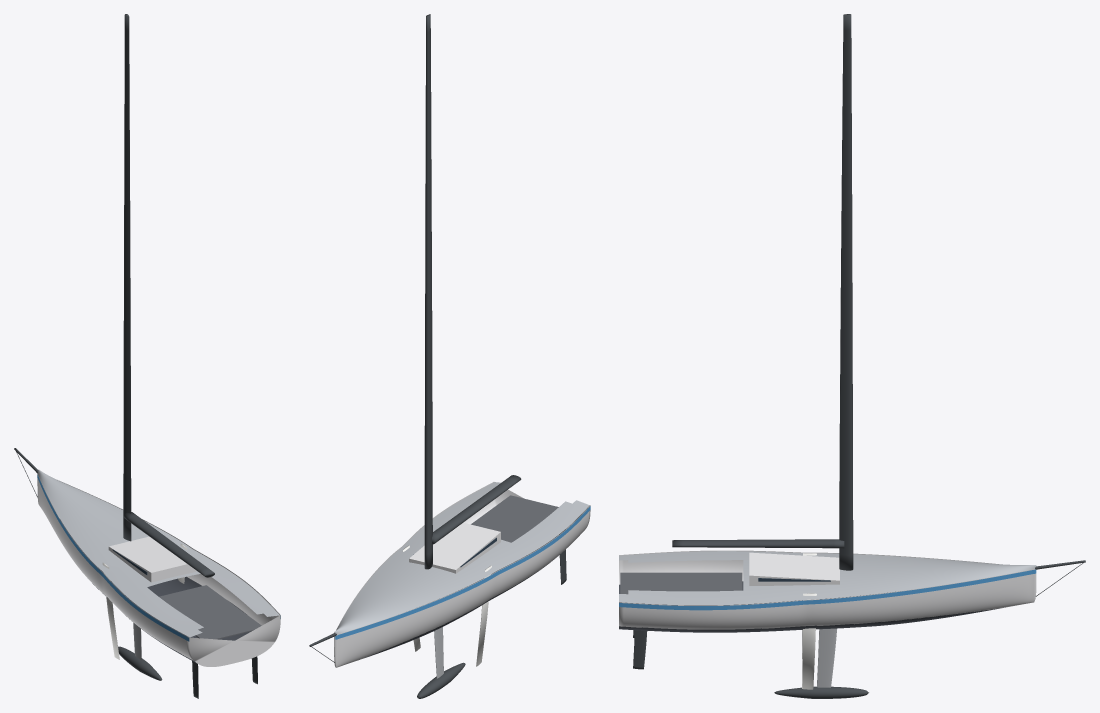
Rendered from imoca_derives.glb.
The picture shows the model from 3 angles, left to right: view 1: azimuth 30°, elevation 25°; view 2: azimuth 150°, elevation 25°; view 3: azimuth 270°, elevation 25°; orthographic projection. The views are drawn at different scales.
Visible parts, largest first — view 1: pont, coque, pivot_mat, cockpit, rouf, pivot_bome, fond, bande, pivot_quille_bulbe; view 2: pont, coque, pivot_mat, rouf, cockpit, bande, pivot_bome, pivot_quille_bulbe, fond; view 3: coque, pont, pivot_mat, rouf, cockpit, bande, fond, pivot_bome, pivot_quille, pivot_quille_bulbe, app_foil_tribord.
Part boxes in pixels (box(x1,y1,x2,y2)): pont: box(37, 469, 279, 637); coque: box(37, 474, 280, 666); pivot_mat: box(123, 14, 131, 541); cockpit: box(159, 585, 261, 639); rouf: box(108, 536, 195, 582); pivot_bome: box(123, 512, 214, 577); fond: box(59, 518, 250, 662); bande: box(37, 474, 280, 641); pivot_quille_bulbe: box(118, 646, 162, 680); pont: box(334, 482, 589, 634); coque: box(334, 482, 590, 667); pivot_mat: box(424, 14, 432, 569); rouf: box(409, 522, 500, 573); cockpit: box(471, 495, 558, 542); bande: box(334, 506, 590, 639); pivot_bome: box(432, 475, 521, 544); pivot_quille_bulbe: box(417, 662, 465, 698); fond: box(358, 535, 560, 660); coque: box(619, 550, 1036, 629); pont: box(619, 551, 1036, 605); pivot_mat: box(839, 14, 853, 570); rouf: box(749, 552, 839, 585); cockpit: box(620, 572, 742, 604); bande: box(619, 569, 1036, 610); fond: box(619, 581, 1000, 632); pivot_bome: box(672, 539, 844, 548); pivot_quille: box(817, 628, 836, 687); pivot_quille_bulbe: box(774, 686, 868, 698); app_foil_tribord: box(802, 593, 816, 689).
Size of the model in its own units: 5.75 by 33.27 by 20.59.
